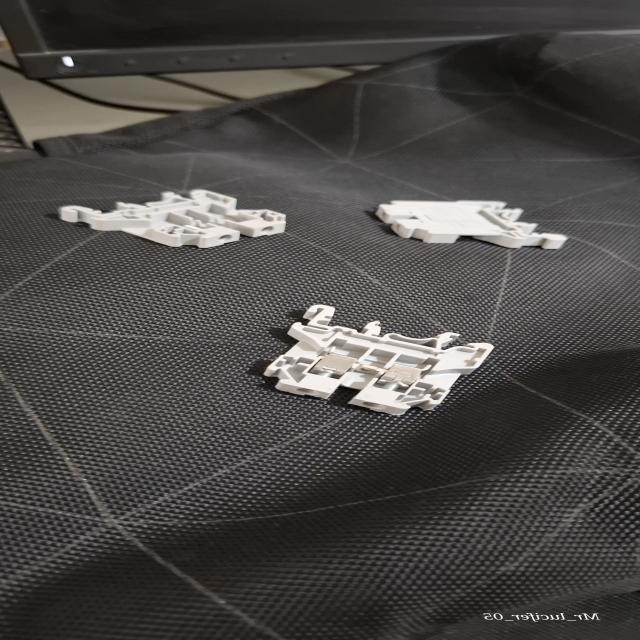Inverted: (369, 200, 569, 244)
Pass: (258, 303, 500, 416)
Reject: (52, 188, 295, 247)
